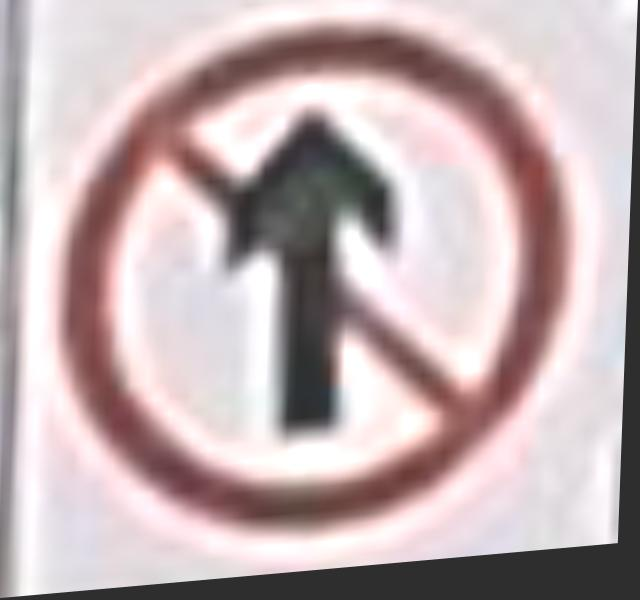not_go_straight: (40, 0, 586, 567)
